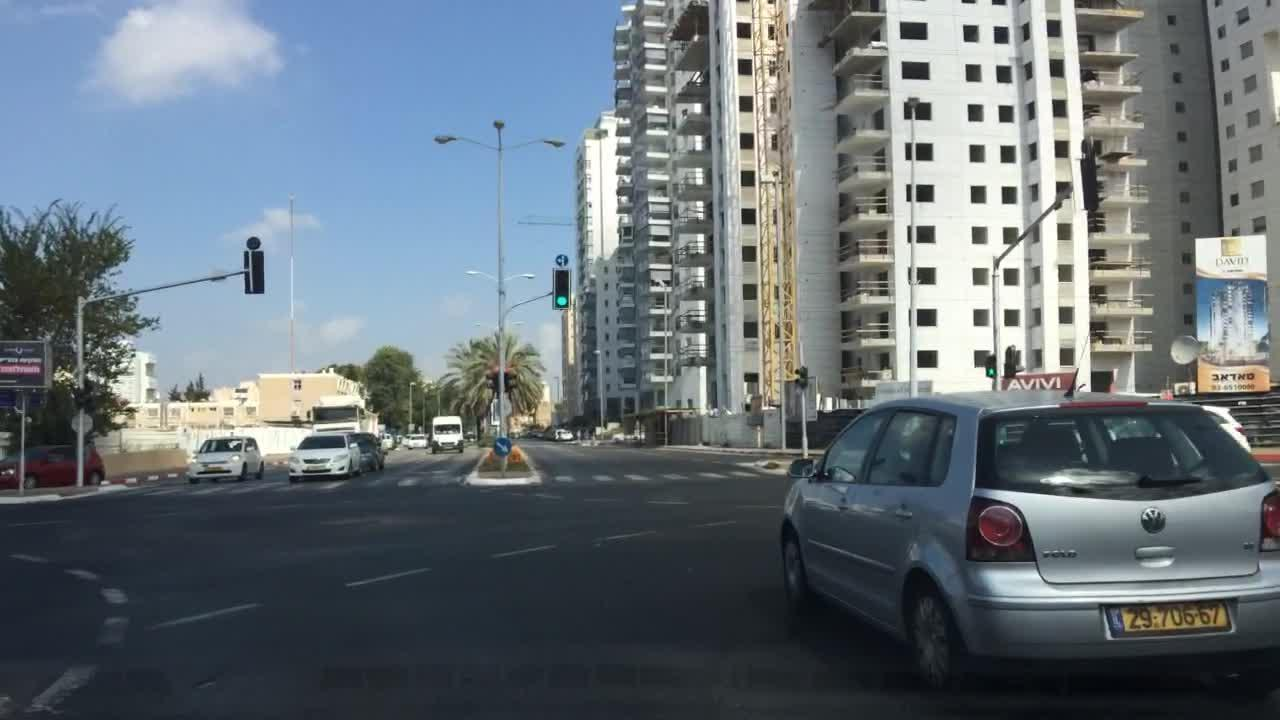Volkswagen: (1131, 500, 1176, 544)
